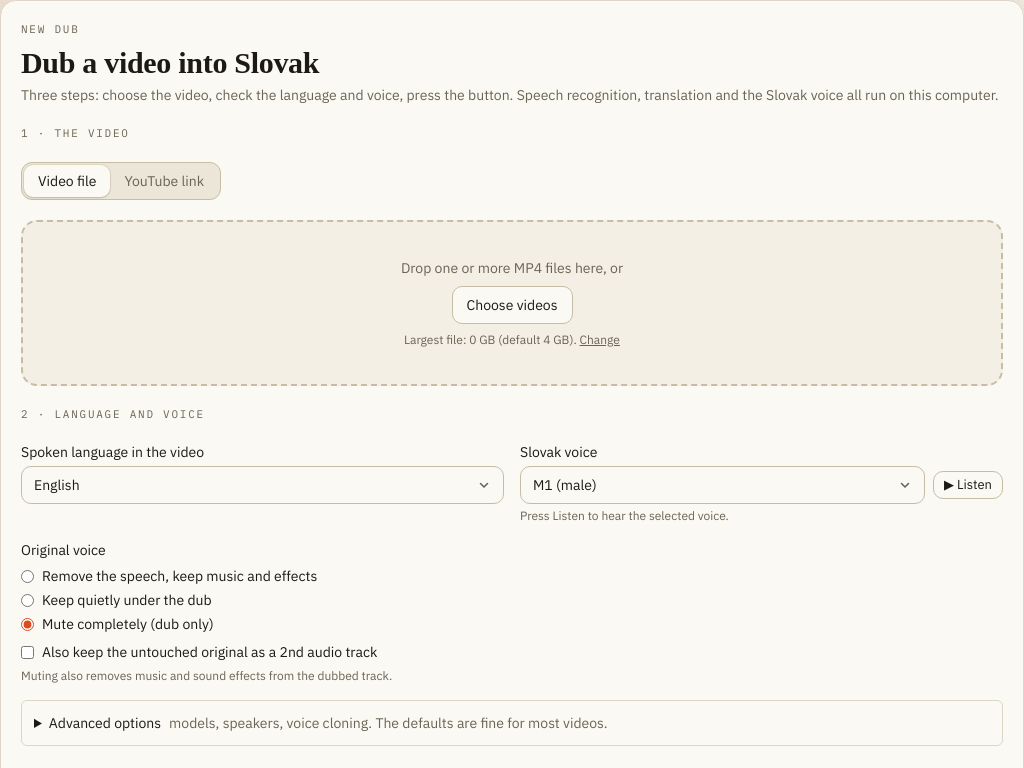
it: original voice options › enables it when available
The image size is (1024, 768).
Click the radio button labelled "Remove the speech, keep music and effects": [28, 576] box x1=21 y1=570 x2=34 y2=582
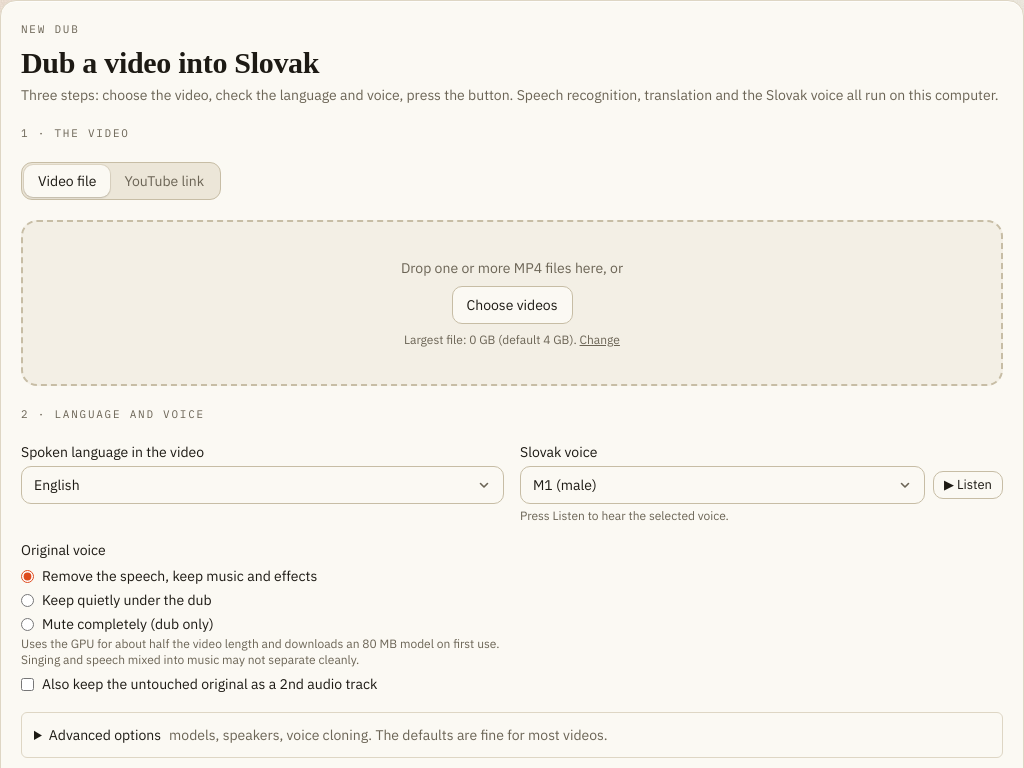
Expected: the text "downloads an 80 MB model" is shown, x1=21 y1=636 x2=499 y2=667
